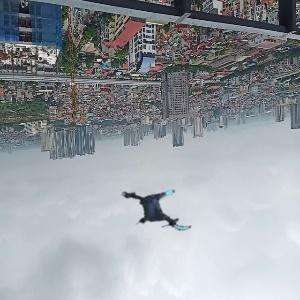drone: (127, 176, 196, 245)
